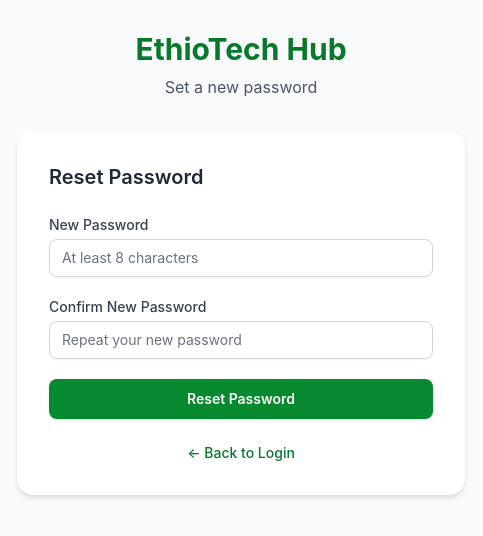
Test: ResetPasswordPage › shows validation errors on empty submit
Click the button "Reset Password". click: click(241, 399)
box: left=49, top=379, right=433, bottom=419
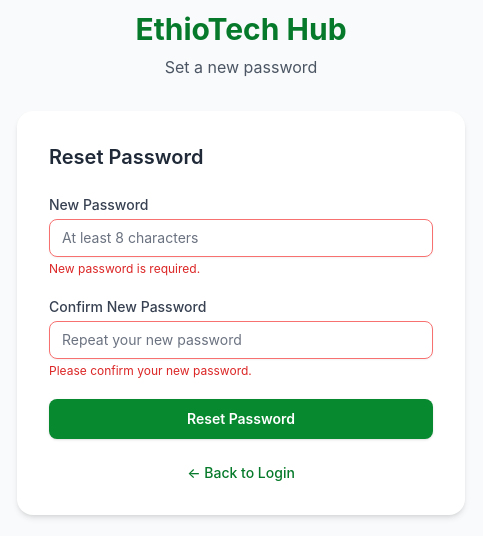
Result: the text "New password is required." is shown at left=49, top=261, right=200, bottom=276
Result: the text "Please confirm your new password." is shown at left=49, top=363, right=252, bottom=378
